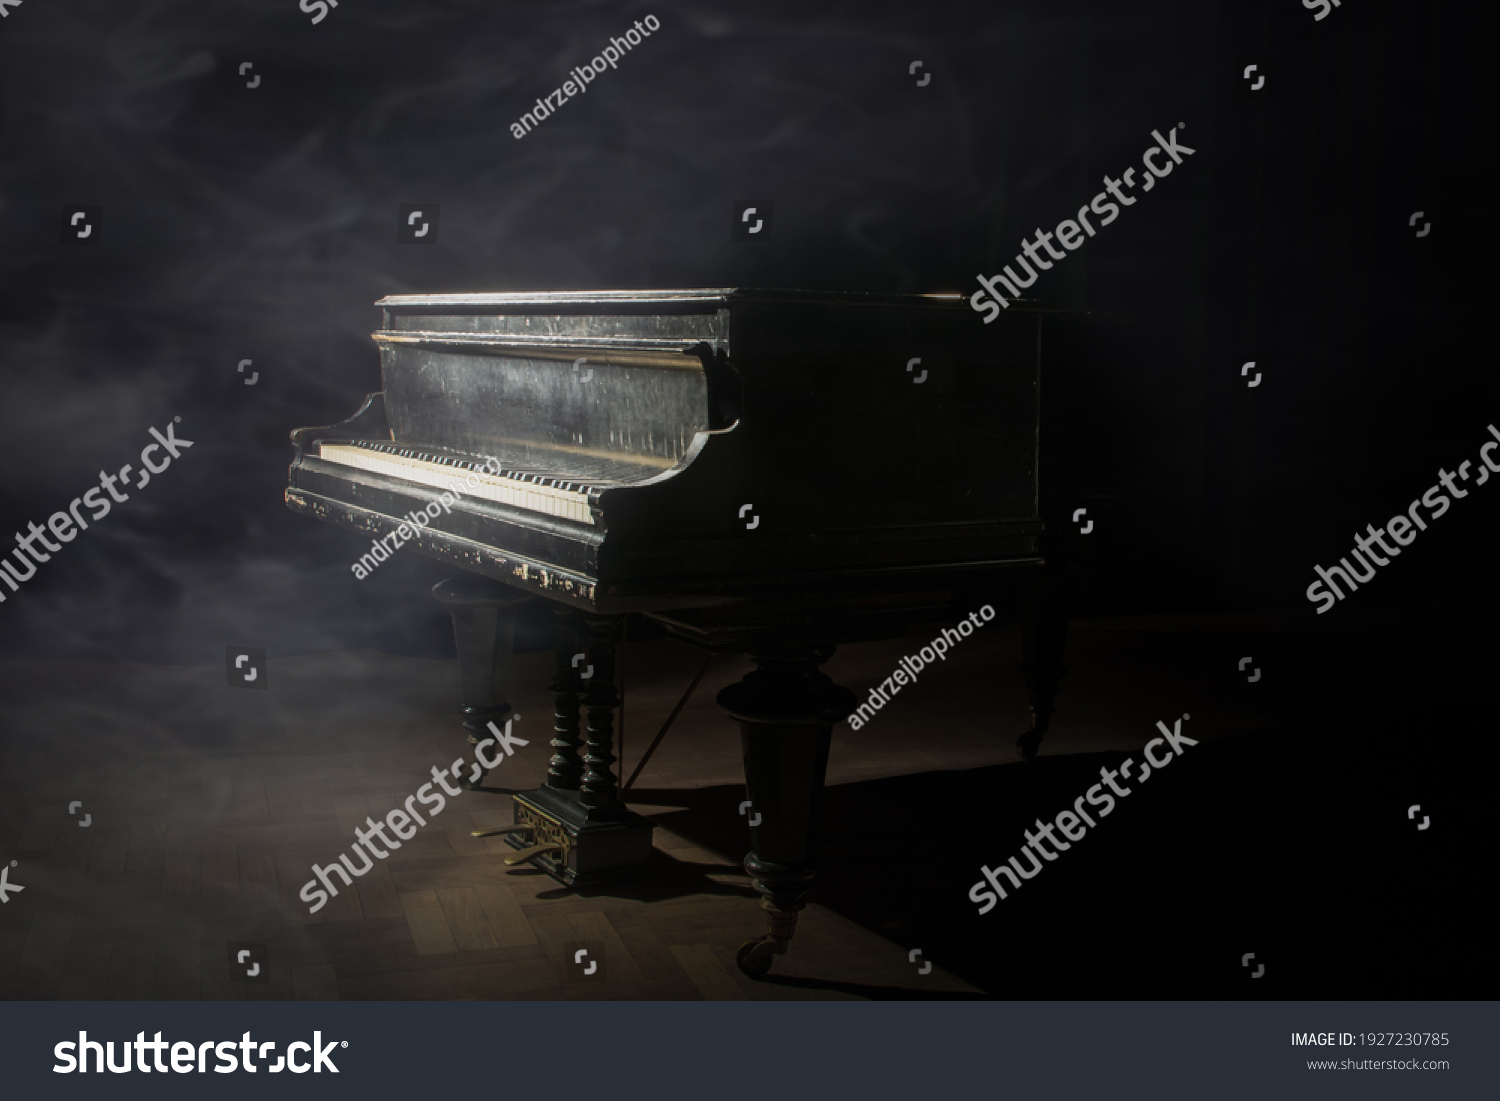Piano: (183, 198, 1205, 971)
